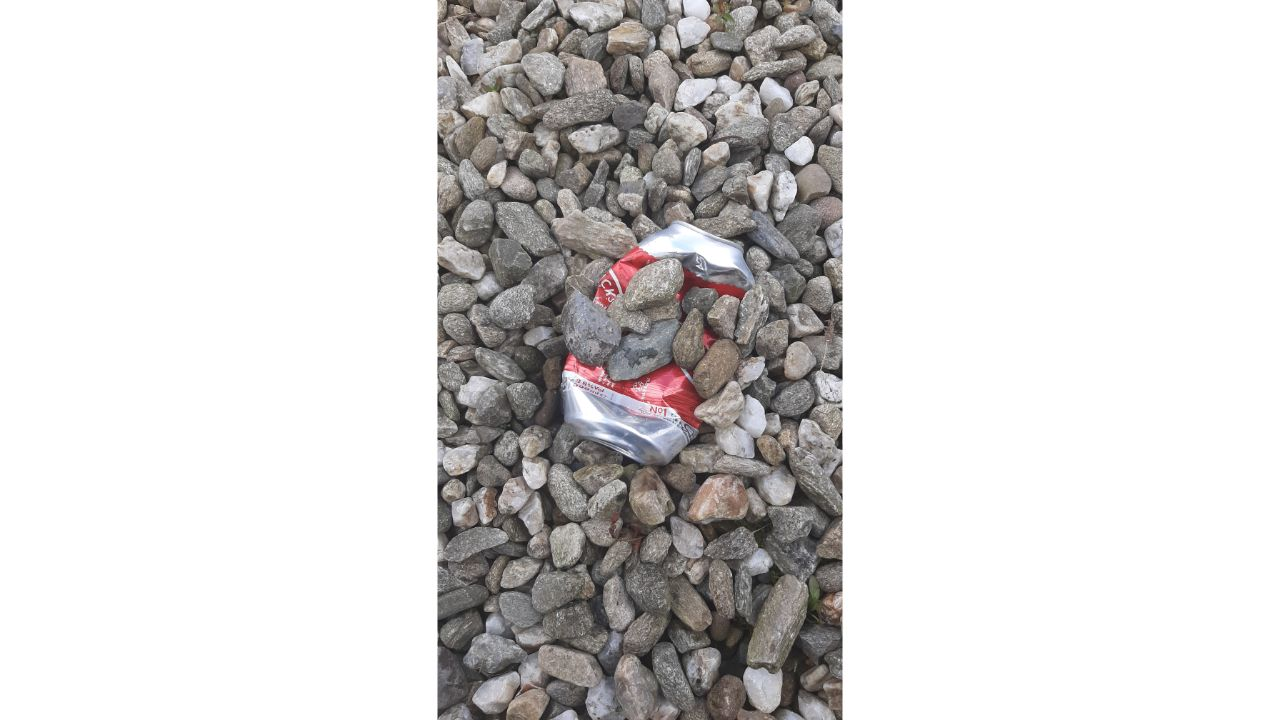Can: (548, 214, 775, 471)
